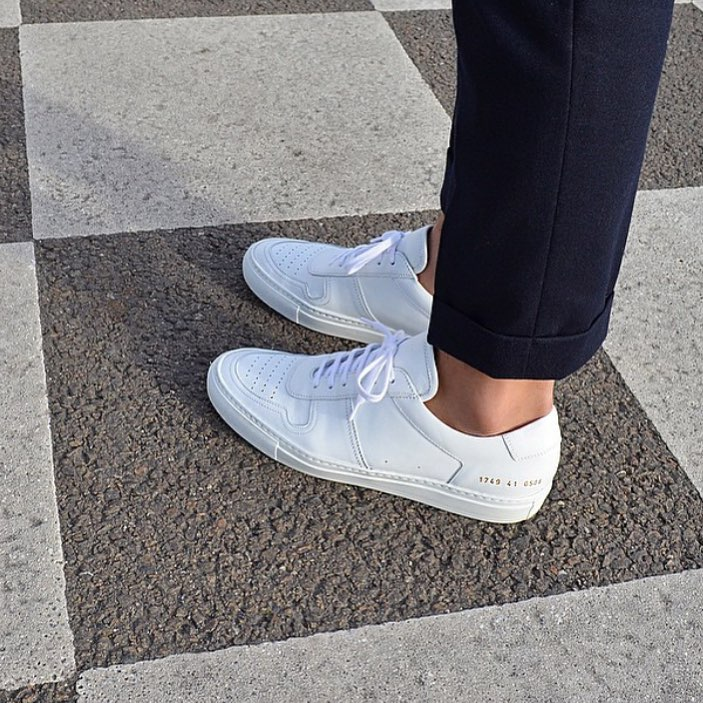sneaker: (194, 308, 574, 551), (226, 205, 488, 354)
